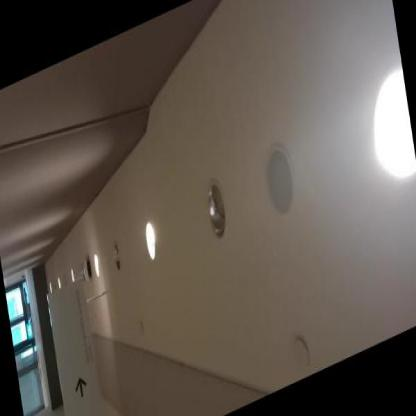light_off: (193, 150, 239, 265), (104, 216, 133, 292), (81, 248, 96, 291)
